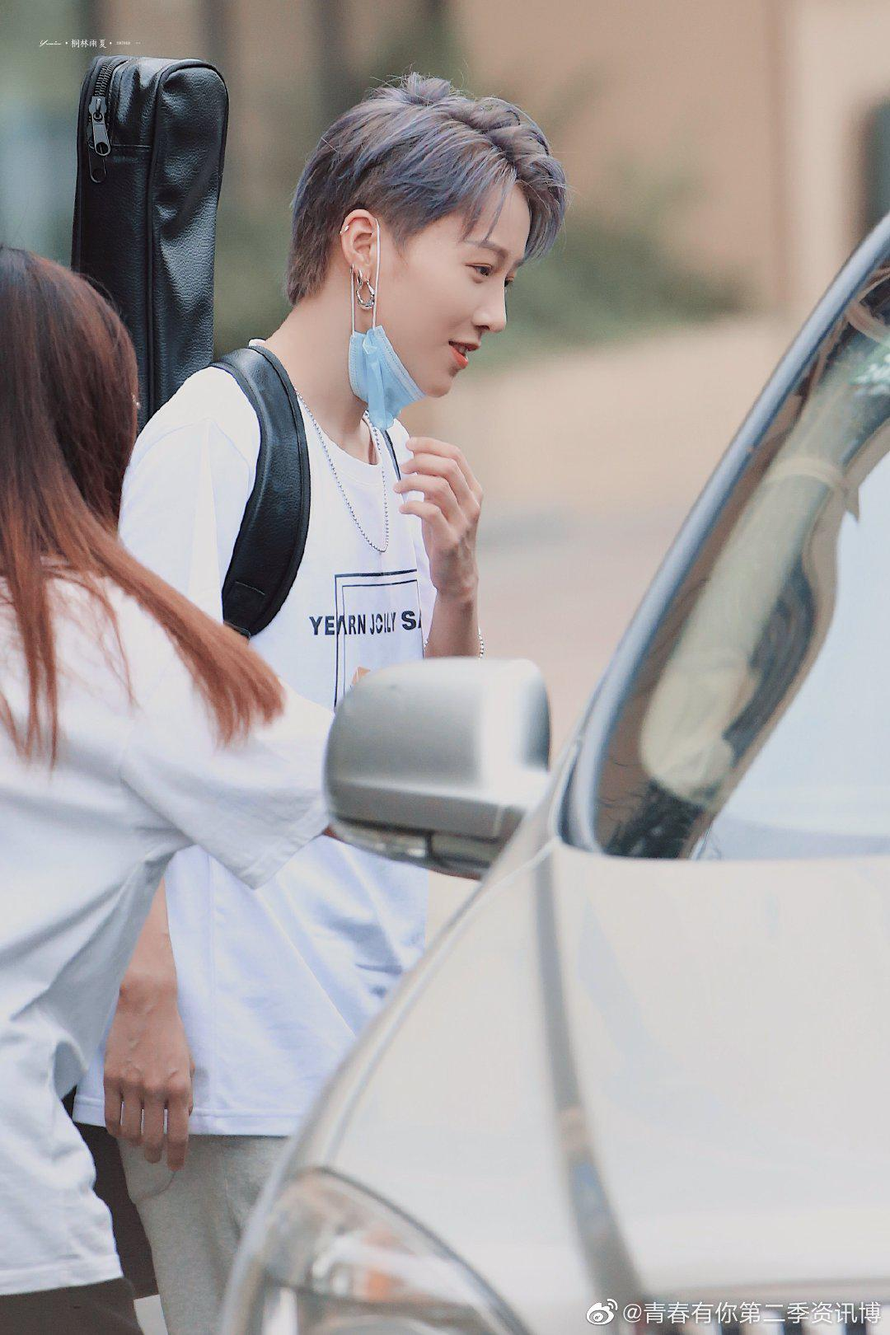WRONG: (386, 210, 532, 402)
